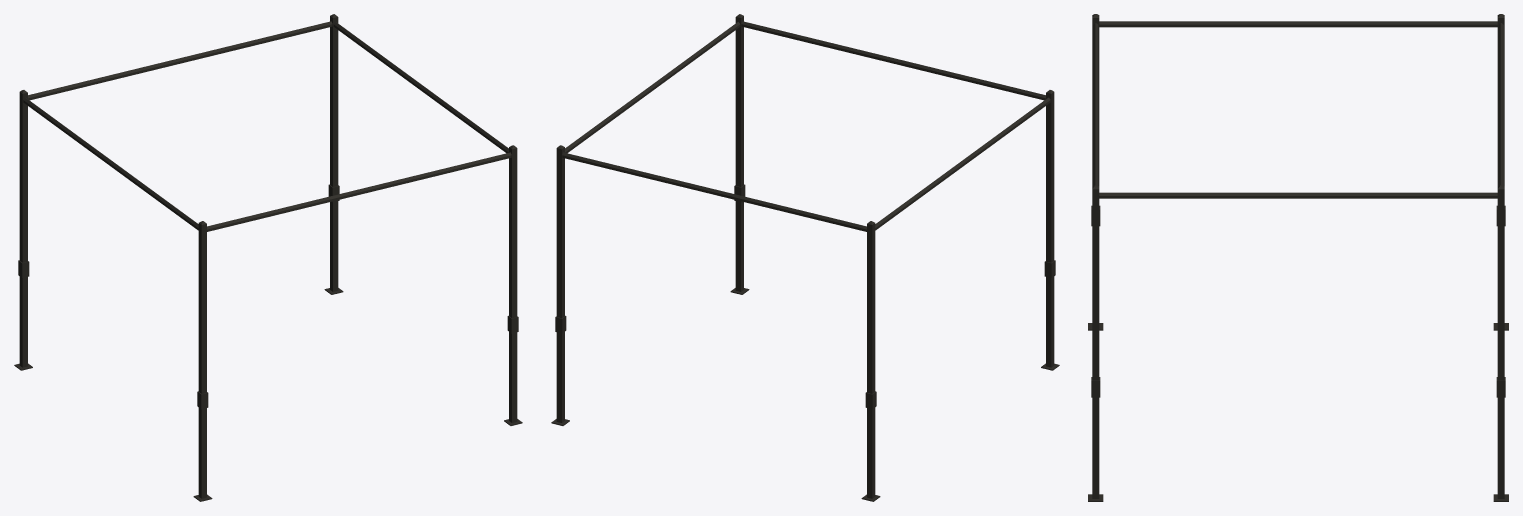
File: SM_Stall_Frame_Market_04.fbx
3 views of the same model, side by side, from view 1: azimuth 30°, elevation 25°; view 2: azimuth 150°, elevation 25°; view 3: azimuth 270°, elevation 25° (orthographic). The views are drawn at different scales.
Visible parts, largest first — view 1: SM_Stall_Frame_Market_04; view 2: SM_Stall_Frame_Market_04; view 3: SM_Stall_Frame_Market_04.
Part boxes in pixels (box(x1,y1,x2,y2)): SM_Stall_Frame_Market_04: box(14, 14, 522, 501); SM_Stall_Frame_Market_04: box(551, 14, 1059, 501); SM_Stall_Frame_Market_04: box(1088, 14, 1508, 501).
Bounding box in the file's own units: 2.74 × 2.25 × 2.74.
1 material, 1 textured.
